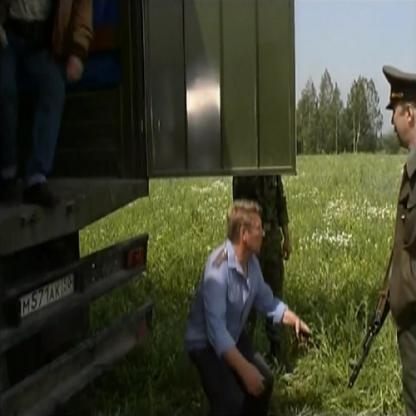Guns: (347, 261, 393, 385)
